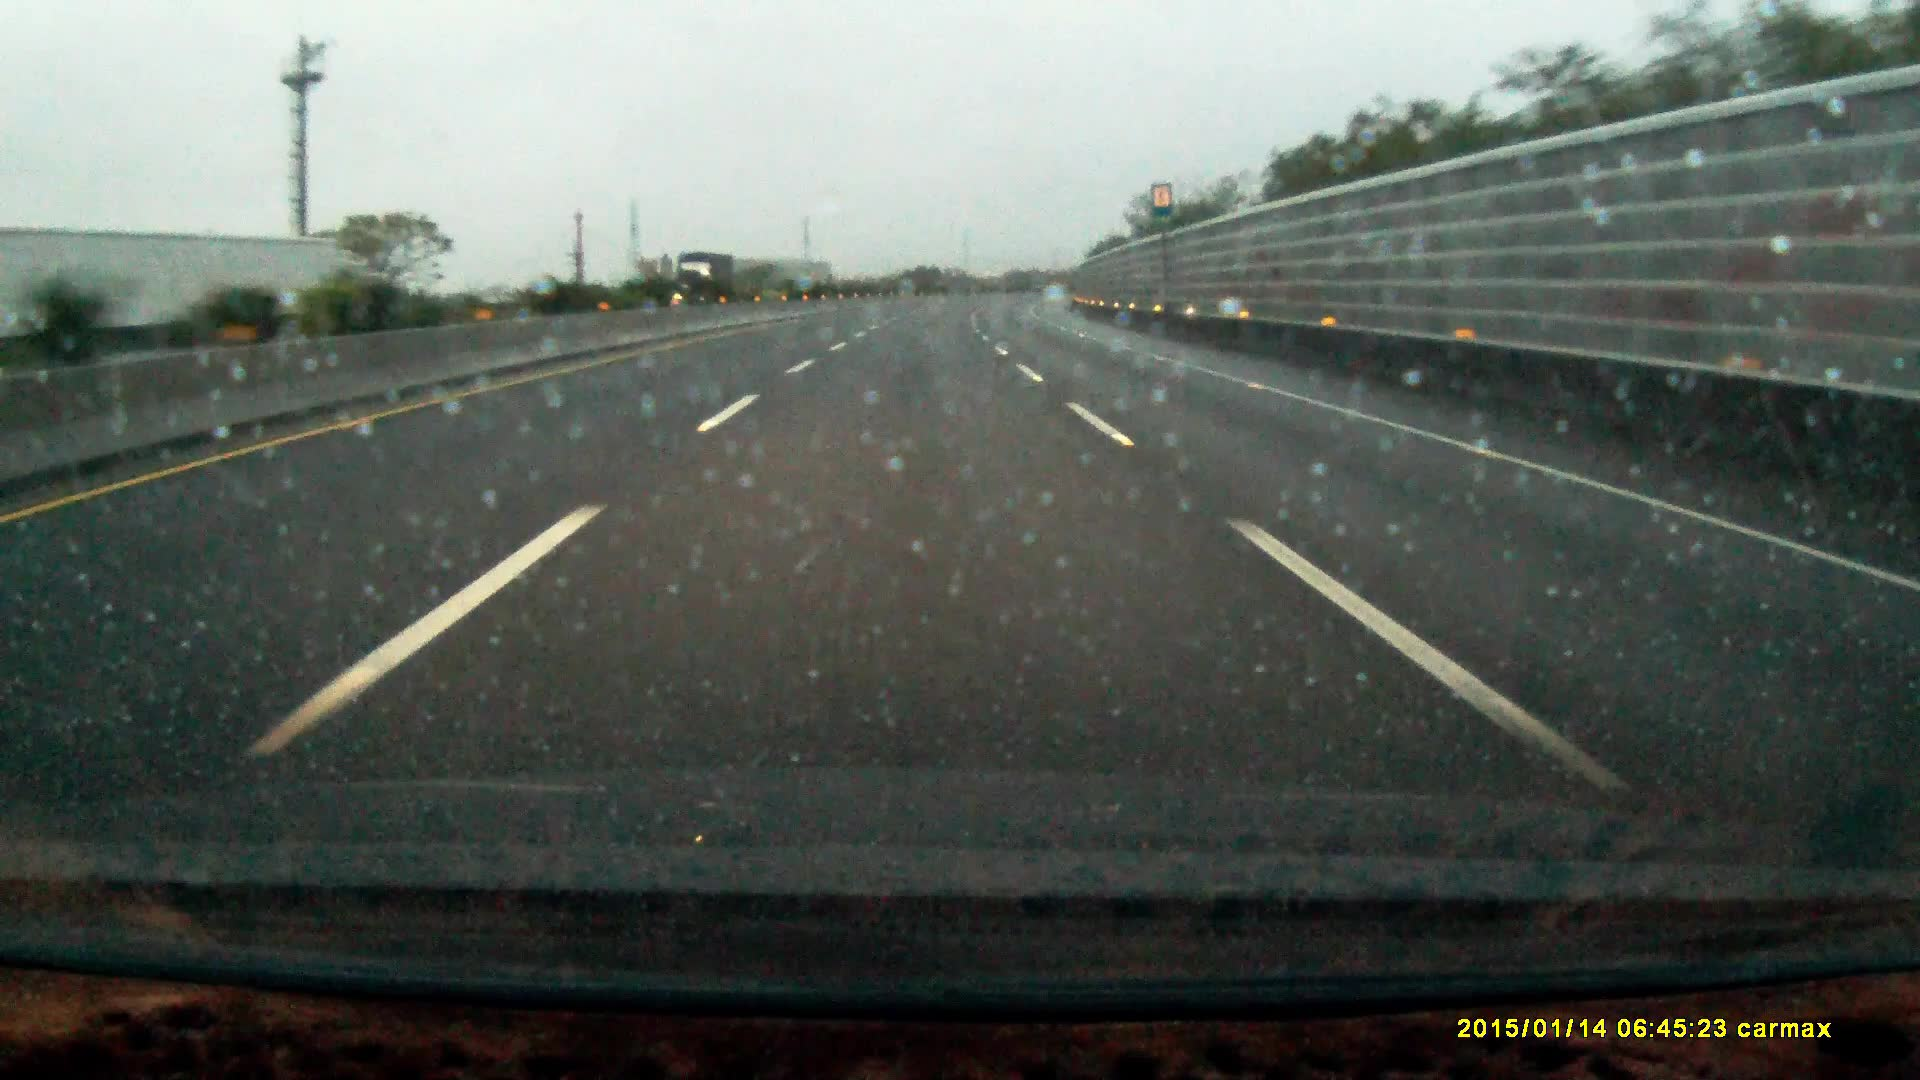vehicle: (676, 252, 736, 303)
